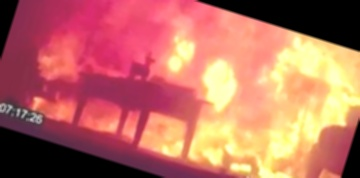fire: (28, 0, 360, 178)
